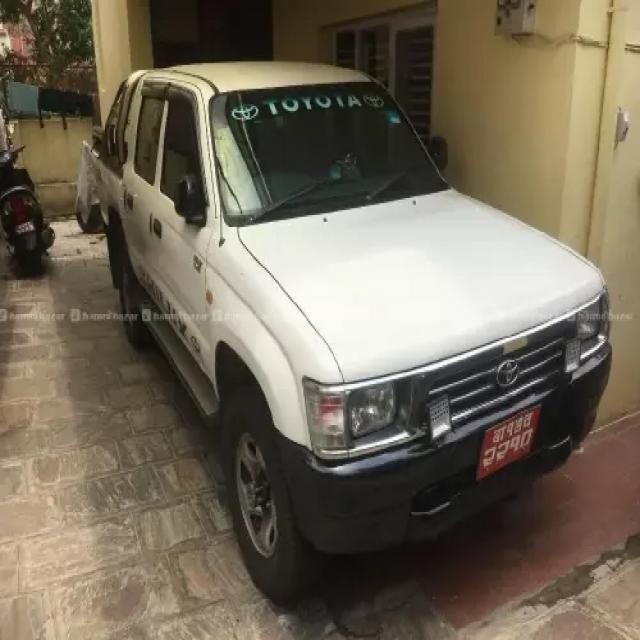License-plate: (473, 406, 539, 481)
